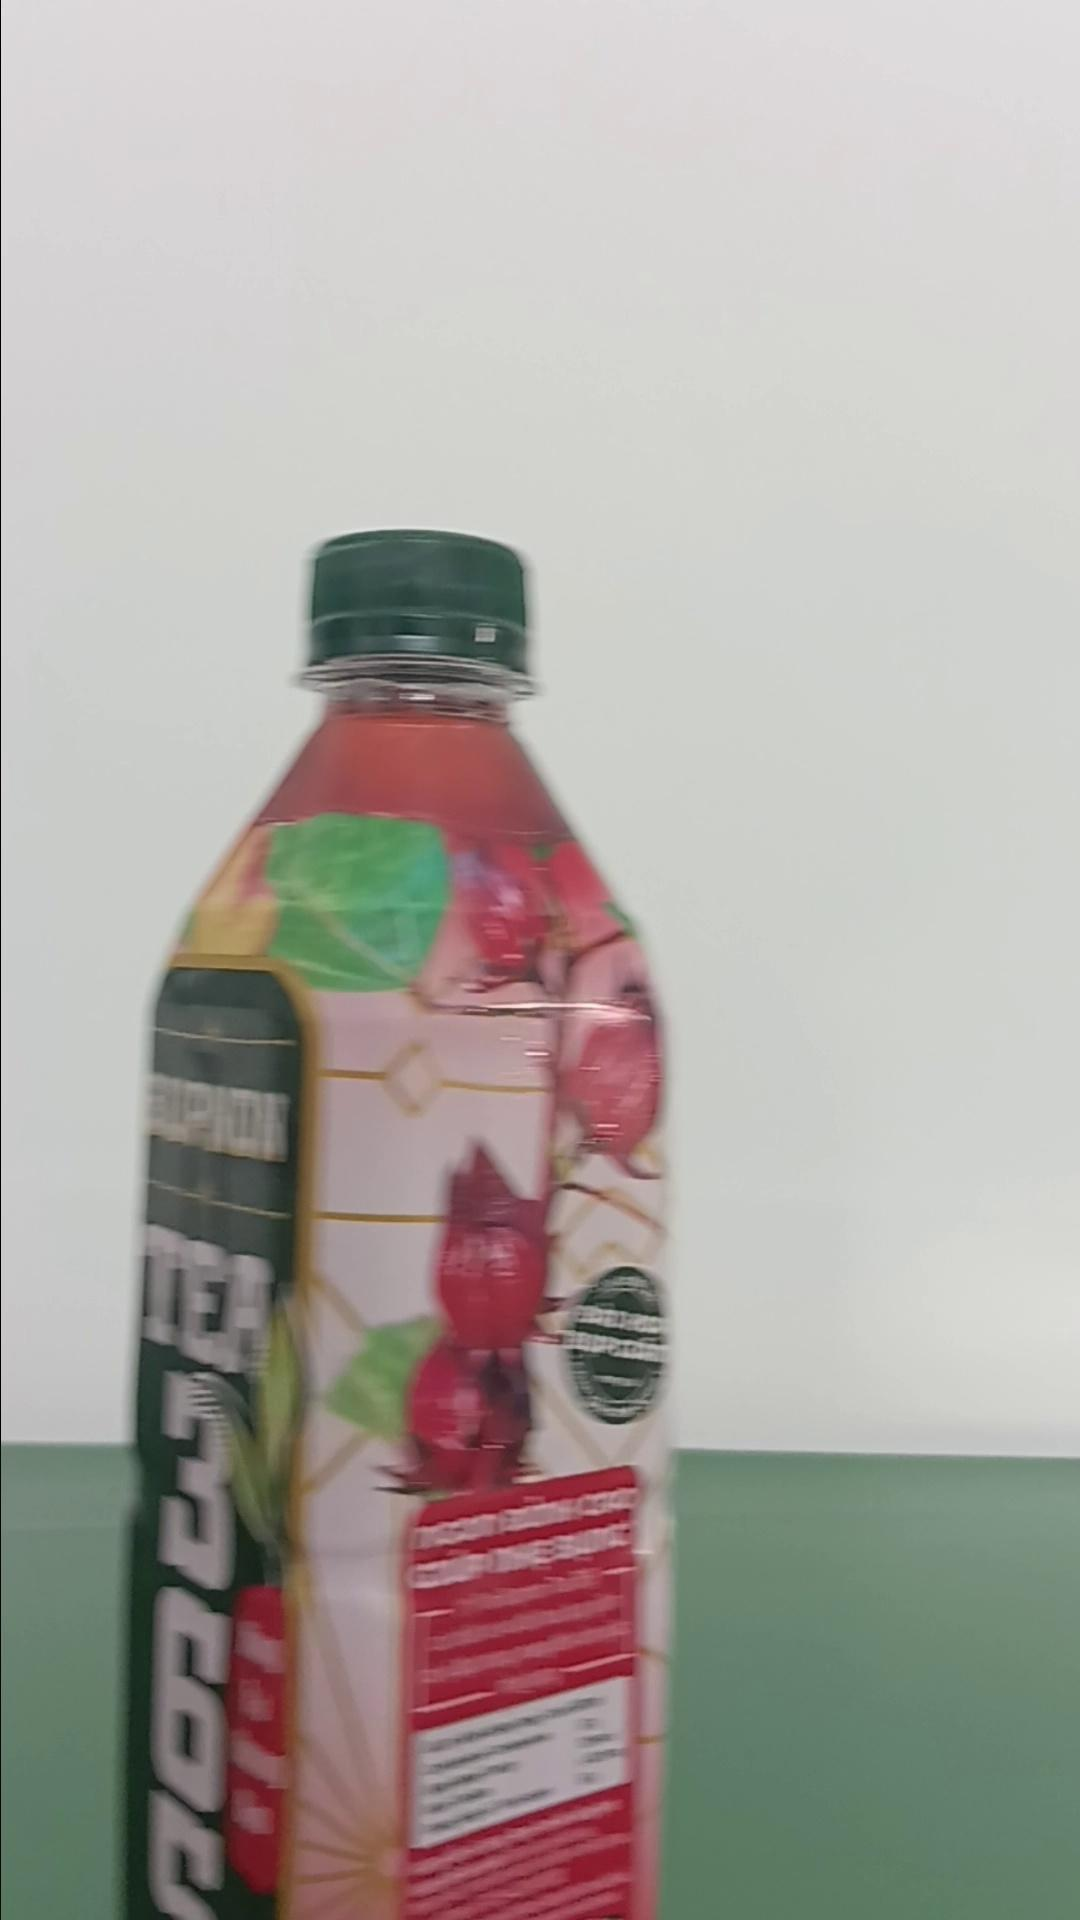khong loi: (123, 525, 675, 1915)
